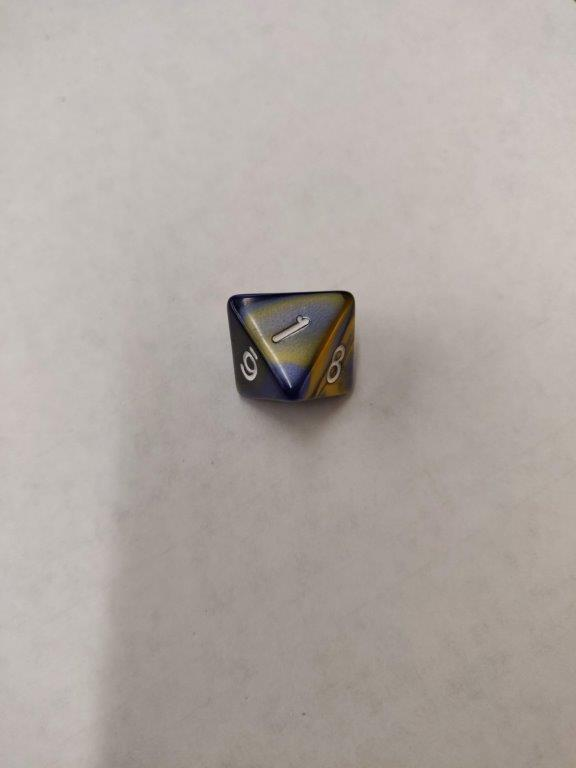d8-1: (228, 288, 357, 405)
